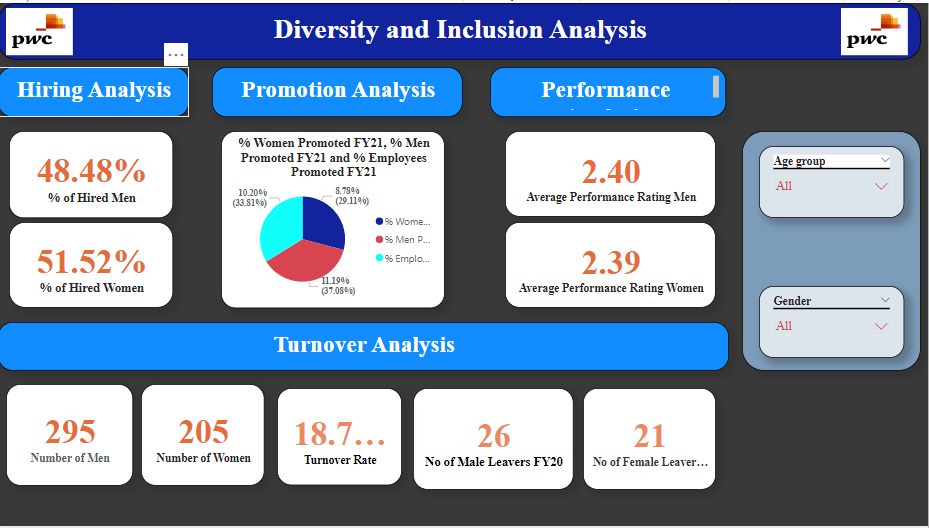

This screenshot's page, from the dashboard's own definition file:
{"tool":"powerbi","page":{"name":"Page 2","canvas":[1280,720],"ordinal":0},"visuals":[{"type":"textbox","box":[0,0,1270.4,78.5],"z":0},{"type":"image","box":[1160.3,6.9,92.2,64.7],"z":1},{"type":"image","box":[11,6.9,92.2,64.7],"z":2},{"type":"textbox","box":[0,88.1,262.9,68.8],"z":3},{"type":"card","fields":{"Values":["Pharma Group AG.Percentage of Hires that are Men"]},"box":[15.1,176.2,225.7,119.7],"z":4},{"type":"card","fields":{"Values":["Pharma Group AG.Percentage of Hires that are Women"]},"box":[15.1,301.4,225.7,118.4],"z":5},{"type":"pieChart","fields":{"Y":["Pharma Group AG.% Women Promoted FY21","Pharma Group AG.% Men Promoted FY21","Pharma Group AG.% Employees Promoted FY21"]},"box":[306.9,176.2,308.3,243.6],"z":6},{"type":"textbox","box":[294.5,88.1,345.5,68.8],"z":7},{"type":"textbox","box":[677.2,88.1,324.8,68.8],"z":8},{"type":"card","fields":{"Values":["Pharma Group AG.Average Performance Rating Men"]},"box":[697.8,176.2,290.4,118.4],"z":9},{"type":"card","fields":{"Values":["Pharma Group AG.Average Performance Rating Women"]},"box":[697.8,301.4,290.4,118.4],"z":10},{"type":"textbox","box":[0,439.1,1006.1,67.4],"z":11},{"type":"card","fields":{"Values":["Pharma Group AG.Number of Men"]},"box":[11.5,523.8,174.6,140],"z":13},{"type":"card","fields":{"Values":["Pharma Group AG.Number of Women"]},"box":[196.3,523.8,170.3,140],"z":14},{"type":"textbox","box":[1024,176.2,246.4,330.3],"z":17},{"type":"slicer","fields":{"Values":["Pharma Group AG.Age group"]},"box":[1047.4,196.8,199.6,99.1],"z":18},{"type":"slicer","fields":{"Values":["Pharma Group AG.Gender"]},"box":[1047.4,389.5,199.6,99.1],"z":19},{"type":"card","fields":{"Values":["Pharma Group AG.Number of Male Leavers FY20"]},"box":[571.5,529.6,220.8,140],"z":20},{"type":"card","fields":{"Values":["Pharma Group AG.Number of Female Leavers FY20"]},"box":[805.2,529.6,183.3,140],"z":21},{"type":"card","fields":{"Values":["Pharma Group AG.Turnover FY20"]},"box":[383.9,529.6,171.7,134.2],"z":22}]}

Visuals, with their boxes in screenshot pixels (x1, y1, x2, y2), scaled from the page's 1280x720 canvas onto the 929x528 screenshot:
textbox: <box>0,0,922,58</box>
image: <box>842,5,909,53</box>
image: <box>8,5,75,53</box>
textbox: <box>0,65,191,115</box>
card - Pharma Group AG.Percentage of Hires that are Men: <box>11,129,175,217</box>
card - Pharma Group AG.Percentage of Hires that are Women: <box>11,221,175,308</box>
pieChart - Pharma Group AG.% Women Promoted FY21 x Pharma Group AG.% Men Promoted FY21: <box>223,129,447,308</box>
textbox: <box>214,65,464,115</box>
textbox: <box>491,65,727,115</box>
card - Pharma Group AG.Average Performance Rating Men: <box>506,129,717,216</box>
card - Pharma Group AG.Average Performance Rating Women: <box>506,221,717,308</box>
textbox: <box>0,322,730,371</box>
card - Pharma Group AG.Number of Men: <box>8,384,135,487</box>
card - Pharma Group AG.Number of Women: <box>142,384,266,487</box>
textbox: <box>743,129,922,371</box>
slicer - Pharma Group AG.Age group: <box>760,144,905,217</box>
slicer - Pharma Group AG.Gender: <box>760,286,905,358</box>
card - Pharma Group AG.Number of Male Leavers FY20: <box>415,388,575,491</box>
card - Pharma Group AG.Number of Female Leavers FY20: <box>584,388,717,491</box>
card - Pharma Group AG.Turnover FY20: <box>279,388,403,487</box>
